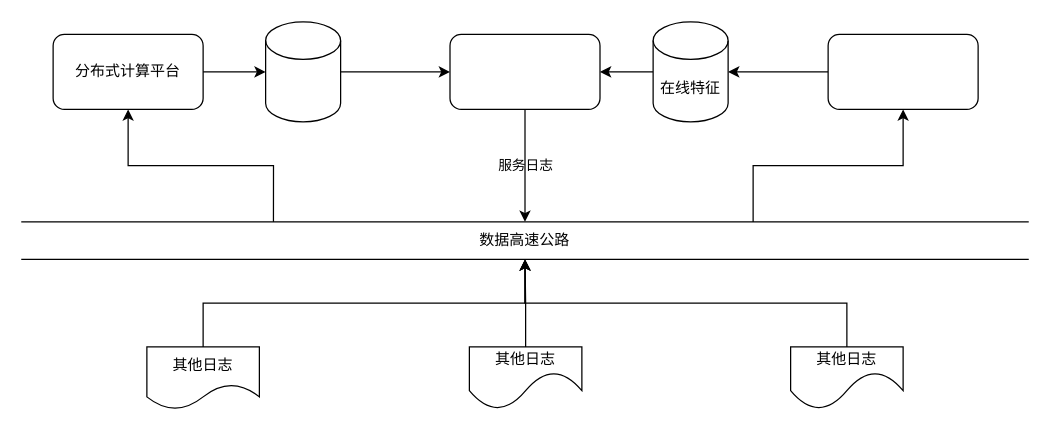
This 1050x431 diagram has some shape labels left out. Each missing label, with the box of its shape:
在线投放引擎: (449, 33, 600, 109)
流计算平台: (827, 33, 978, 109)
离线特征: (264, 21, 341, 122)
